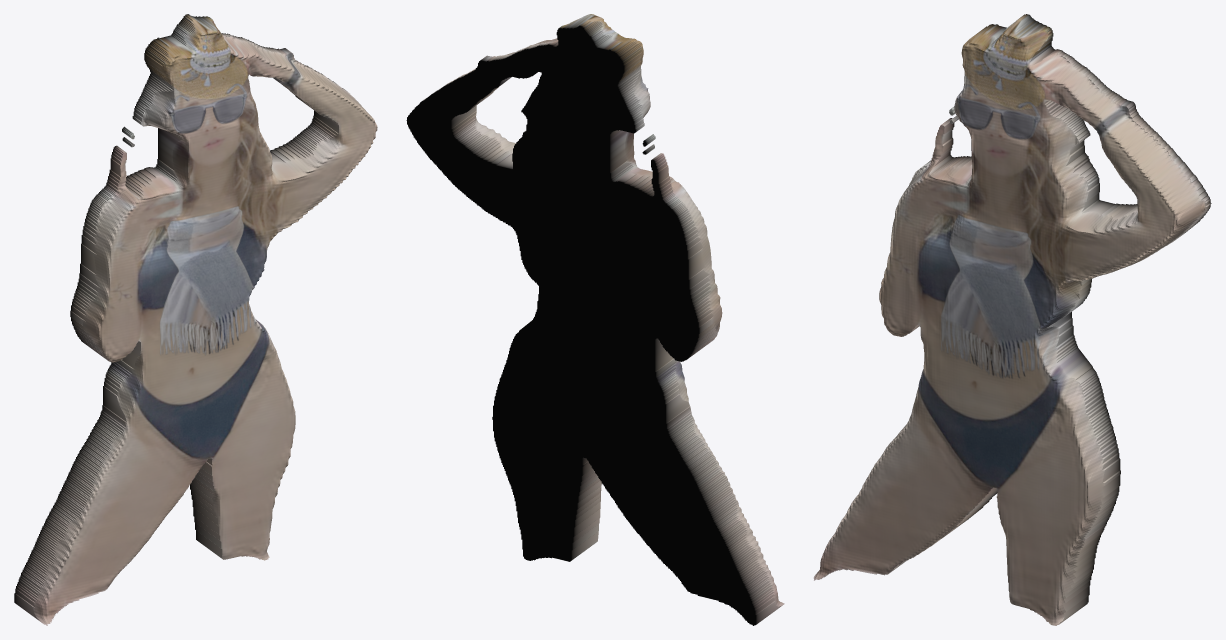
Rendered from avatar_20260313_114652.glb.
3 views of the same model, side by side, from view 1: azimuth 30°, elevation 25°; view 2: azimuth 150°, elevation 25°; view 3: azimuth 330°, elevation 25° (orthographic). The views are drawn at different scales.
Parts seen in each view (by area): view 1: world; view 2: world; view 3: world.
Boxes of the visible parts, x1,y1,x2,y2 form: world: (14, 14, 377, 625); world: (406, 14, 784, 625); world: (813, 14, 1211, 625).
Bounding box in the file's own units: 1.07 × 1.63 × 0.1637.
